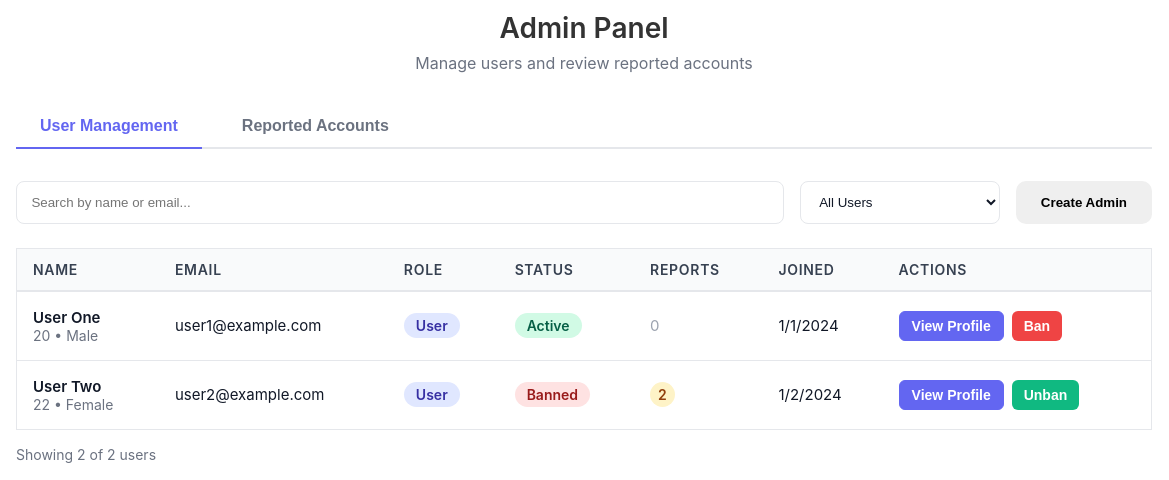
Scenario: AdminPanel › User Management Tab › should filter users by status
This screenshot has width=1169, height=480.
Expected: the text "User One" is shown, [33,308,100,327]
Select "Banned Users" in the dropdown showing "All Users" at (900, 202), box [800,181,1000,224]
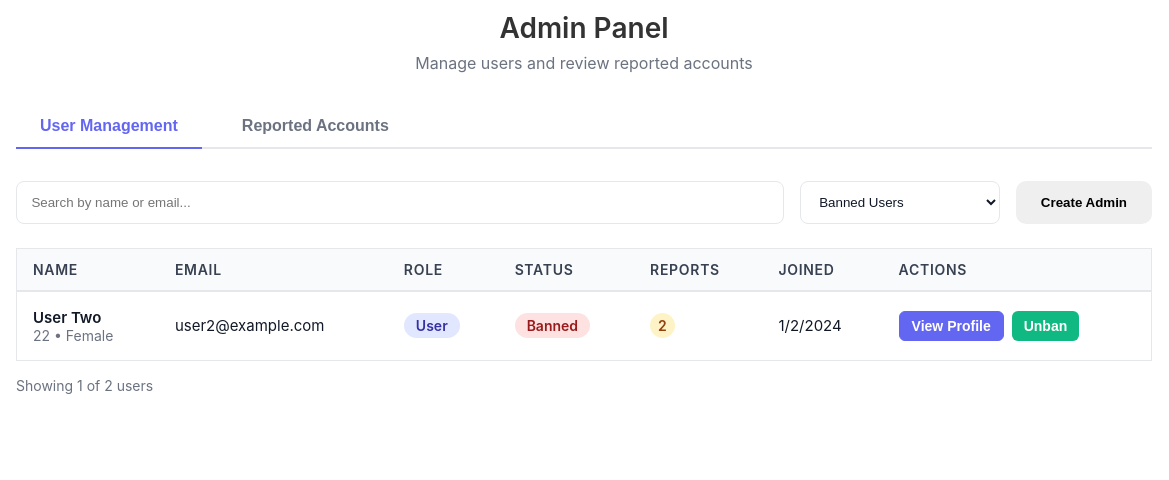
Expected: the text "User Two" is shown, [33,308,101,327]
Expected: the text "User One" is gone
